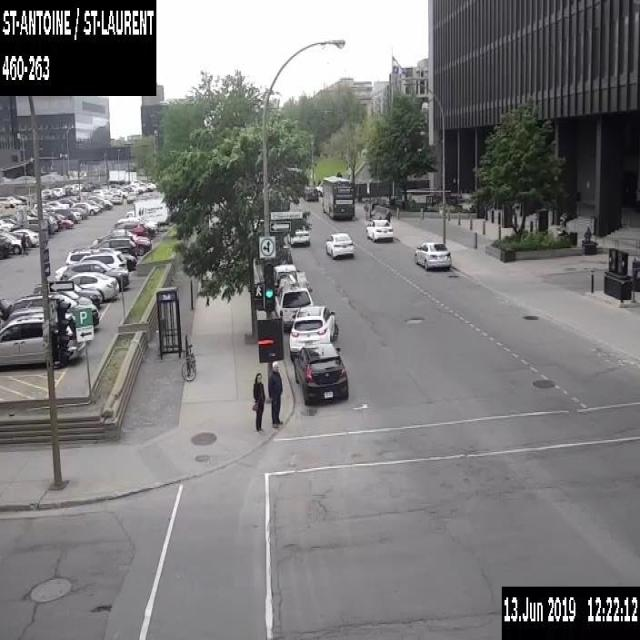bus: (322, 175, 354, 219)
pedestrian: (267, 360, 283, 426), (251, 372, 265, 432), (21, 232, 28, 256)
vehicle: (0, 312, 85, 368), (293, 342, 348, 404), (0, 294, 98, 326), (288, 305, 338, 360), (60, 258, 129, 290), (54, 249, 127, 278), (274, 274, 312, 329), (66, 270, 118, 300), (125, 197, 167, 231), (96, 228, 150, 254), (34, 282, 92, 304), (414, 240, 451, 272), (7, 305, 74, 321), (94, 236, 137, 258), (65, 246, 113, 265), (324, 232, 354, 259), (114, 217, 156, 236), (74, 282, 102, 307), (366, 217, 393, 240), (127, 216, 157, 233), (12, 227, 38, 246), (287, 224, 309, 246), (273, 263, 297, 283), (0, 232, 21, 253), (8, 231, 30, 249), (54, 208, 81, 222), (116, 222, 145, 235), (73, 200, 98, 215), (10, 218, 38, 230), (54, 212, 72, 230), (302, 184, 318, 201), (42, 215, 58, 232), (92, 196, 111, 209), (69, 204, 86, 218), (123, 252, 136, 269), (0, 195, 15, 208), (0, 236, 8, 260), (282, 244, 292, 263), (86, 199, 103, 210), (46, 200, 68, 208), (0, 218, 14, 230), (111, 188, 123, 202), (42, 217, 53, 232), (41, 203, 54, 215), (12, 194, 27, 204), (59, 197, 72, 207), (1, 216, 19, 223), (126, 190, 136, 202), (315, 179, 322, 196), (41, 188, 54, 197), (53, 186, 65, 194), (53, 187, 62, 197), (10, 196, 22, 202), (69, 196, 79, 201)
